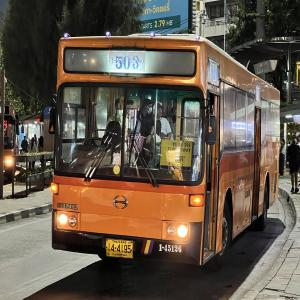BMTA-bus: (49, 35, 281, 267)
Bus Line Number: (109, 50, 146, 73)
Bus Side Number: (156, 242, 186, 255)
Destination Sign: (159, 136, 195, 170)
